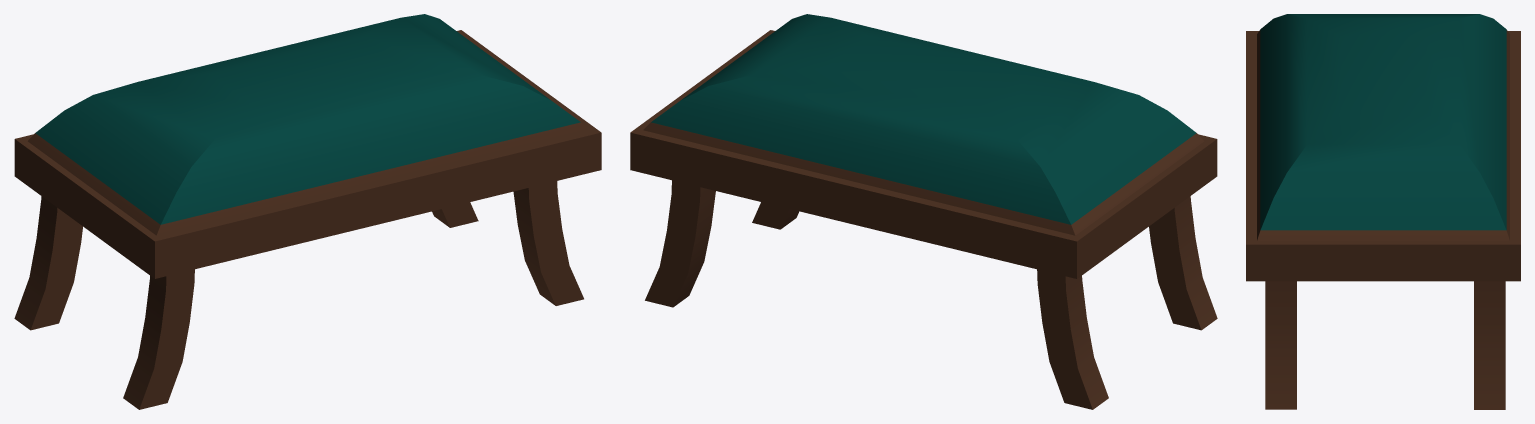
The model's file is Sgabello .fbx.
3 renders of one model, left to right at view 1: azimuth 30°, elevation 25°; view 2: azimuth 150°, elevation 25°; view 3: azimuth 270°, elevation 25°, orthographic. The views are drawn at different scales.
Visible parts, largest first — view 1: Pouf.001; view 2: Pouf.001; view 3: Pouf.001.
Part boxes in pixels (x1,y1,x2,y2): Pouf.001: (14, 14, 601, 409); Pouf.001: (630, 14, 1217, 409); Pouf.001: (1246, 14, 1520, 409).
Bounding box in the file's own units: 204 × 101 × 109.
